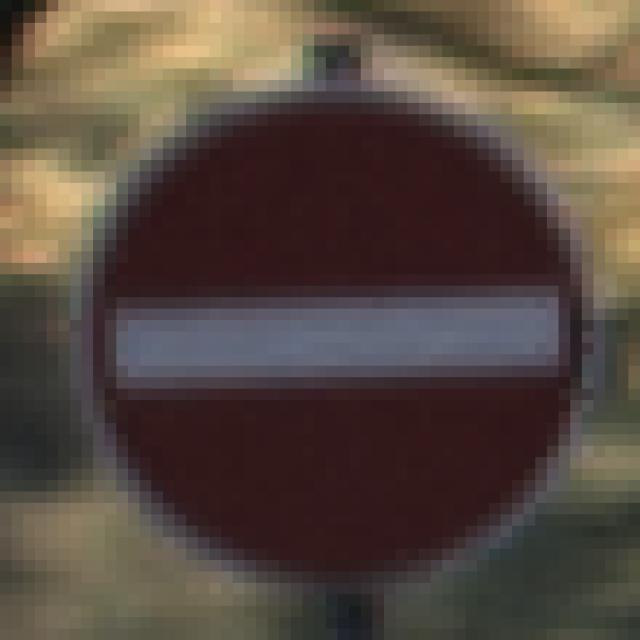No Entry: (71, 69, 583, 584)
